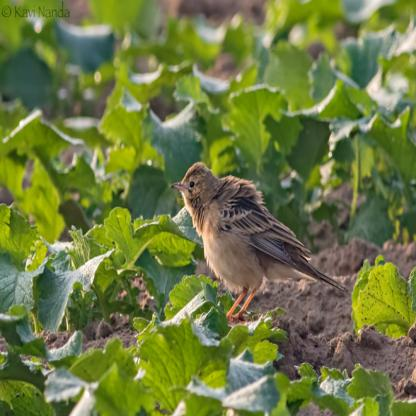Burung: (170, 160, 341, 328)
